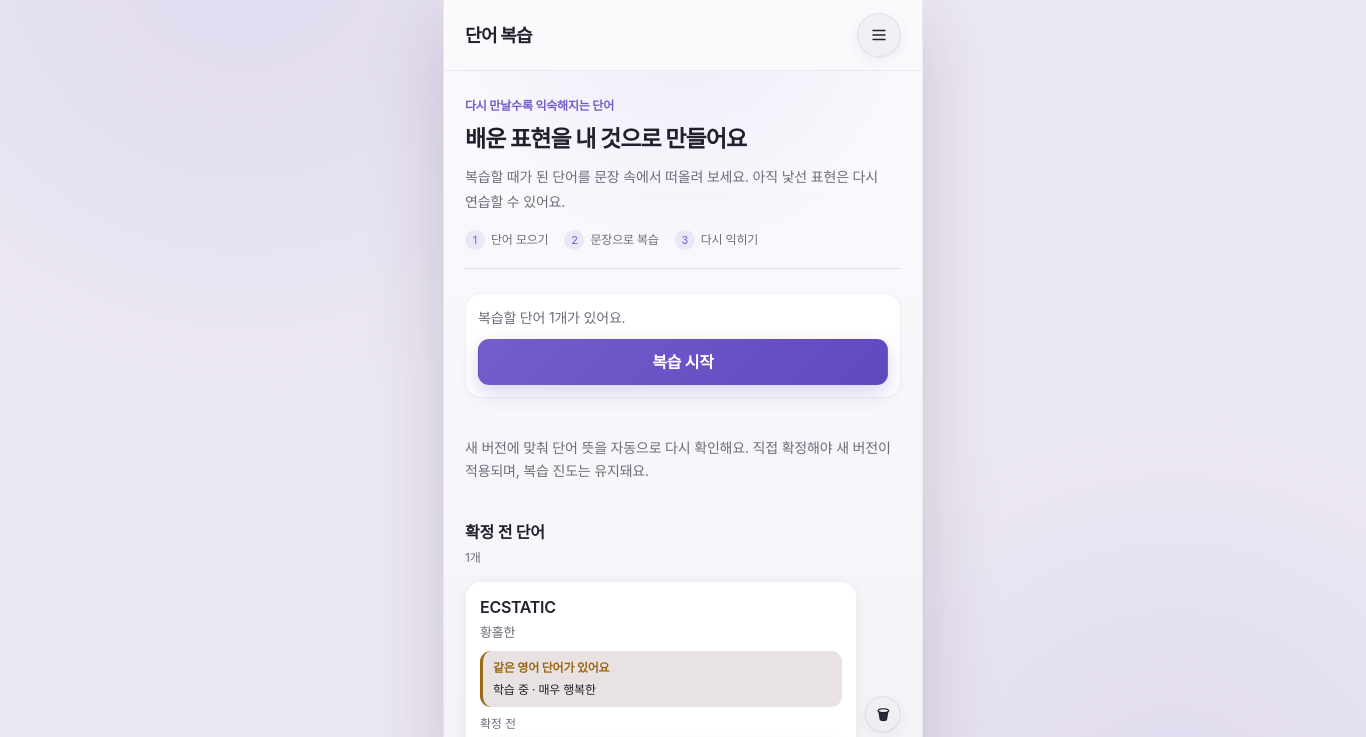
it: same English word notices › removes the notice only after a successful deletion (success: false)
The width and height of the screenshot is (1366, 737).
Click the button named "단어 삭제": click(883, 714) [865,696,901,732]
(page scrolled)
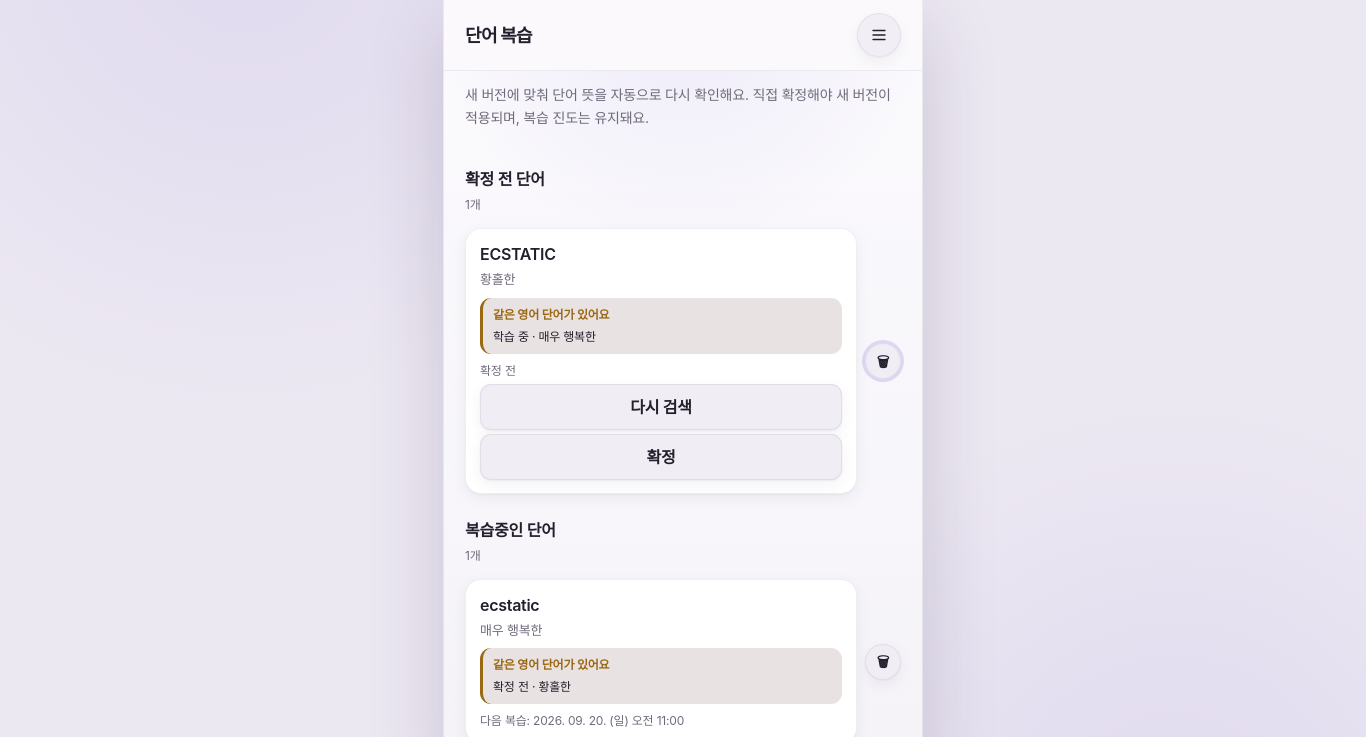
Check: the number of elements named "같은 영어 단어 안내" is 2, box [480,298,842,354]; [480,648,842,704]
Check: the text "ecstatic" is shown, box [480,595,539,615]
